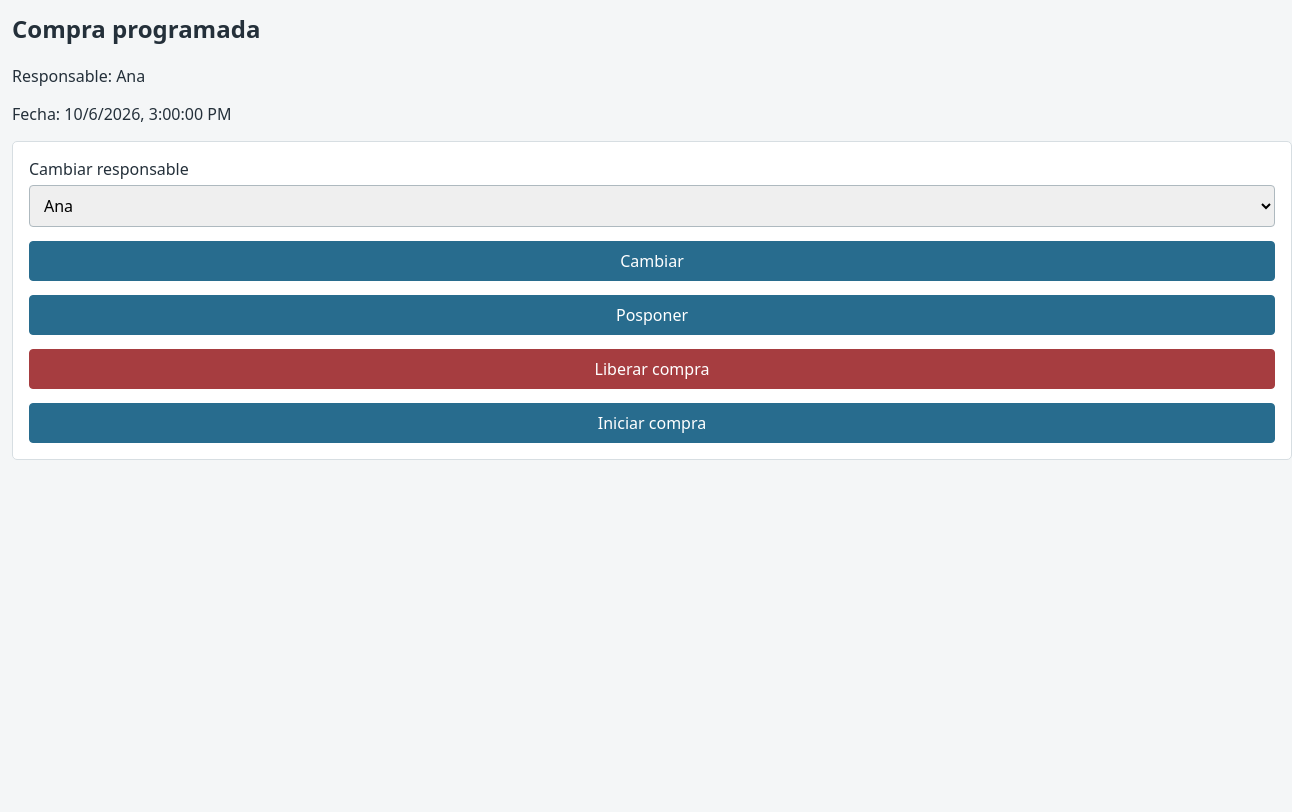
PurchasePage › la postergación valida la fecha y sólo cierra tras éxito (resultado: http-error)
Click the button "Posponer". click: point(652, 315)
box: [29,295,1275,335]
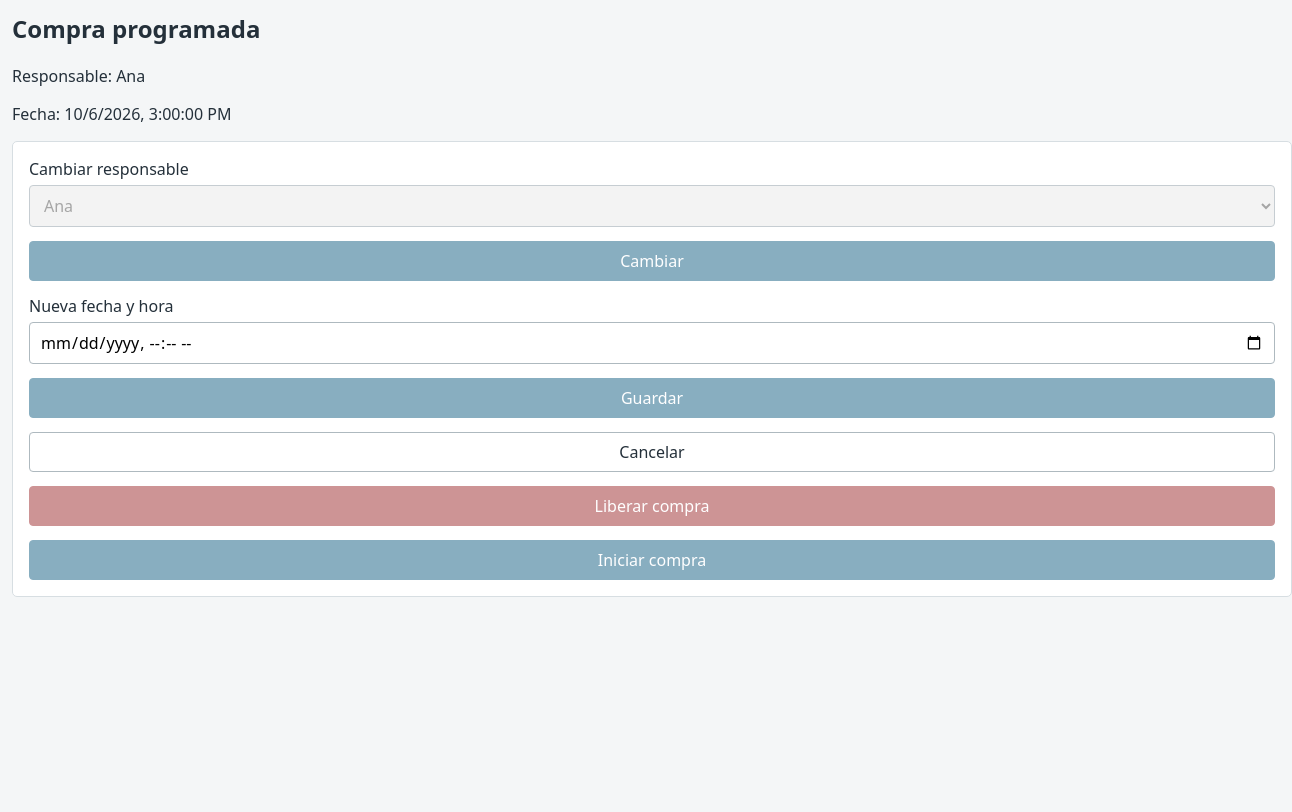
Expected: the button "Guardar" is disabled, [29,378,1275,418]
Type "2026-10-06T15:05" into the field labelled "Nueva fecha y hora". click: point(652, 343)
box: [29,322,1275,364]
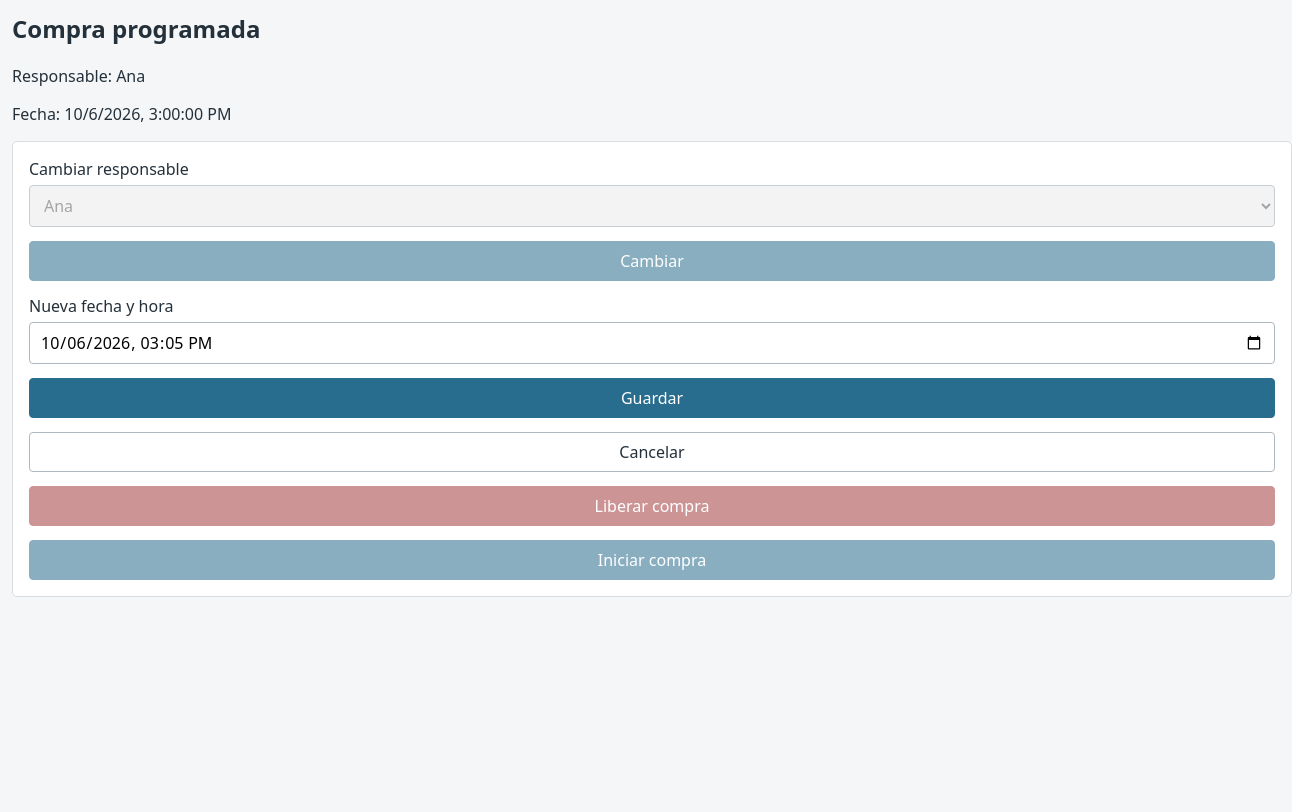
Click the button "Guardar". click: point(652, 398)
box: [29,378,1275,418]
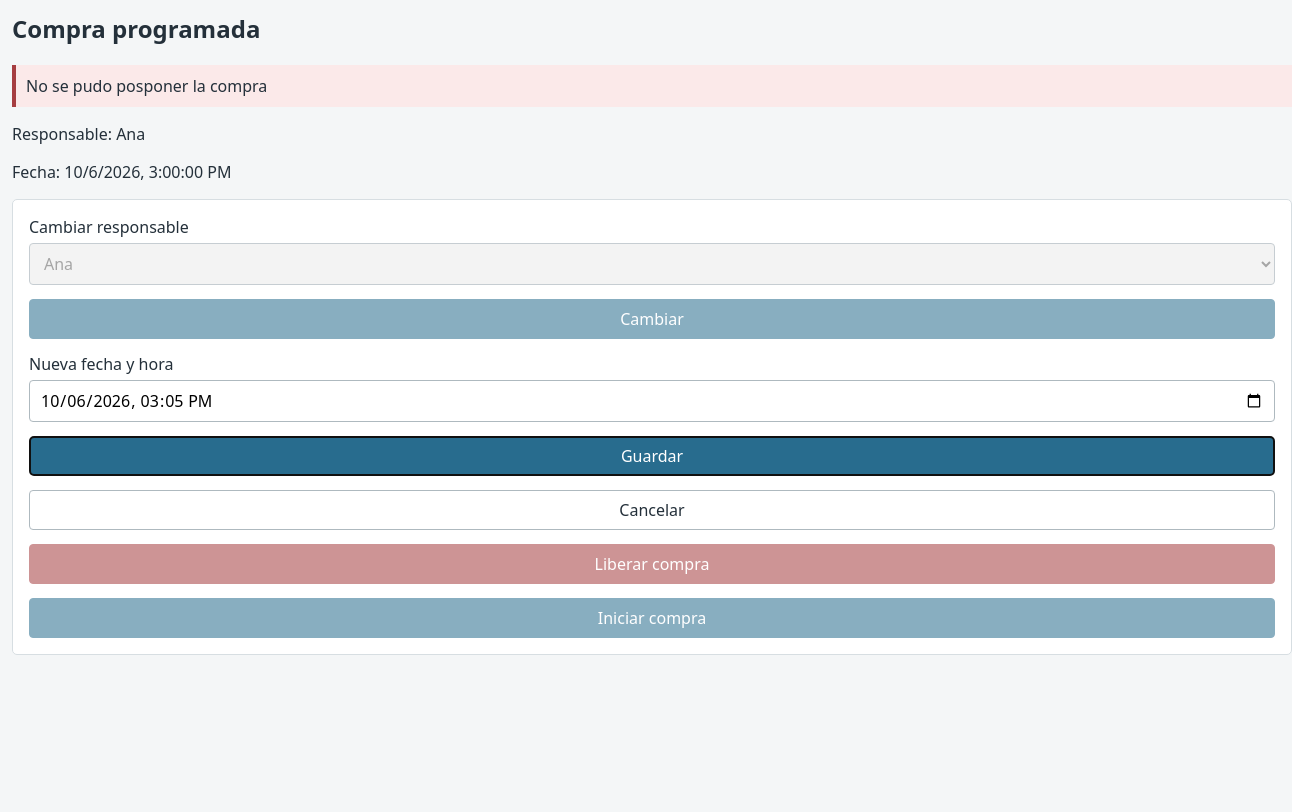
Expected: the button "Guardar" is shown, [29,436,1275,476]
Expected: the text "No se pudo posponer la compra" is shown, [12,65,1291,107]
